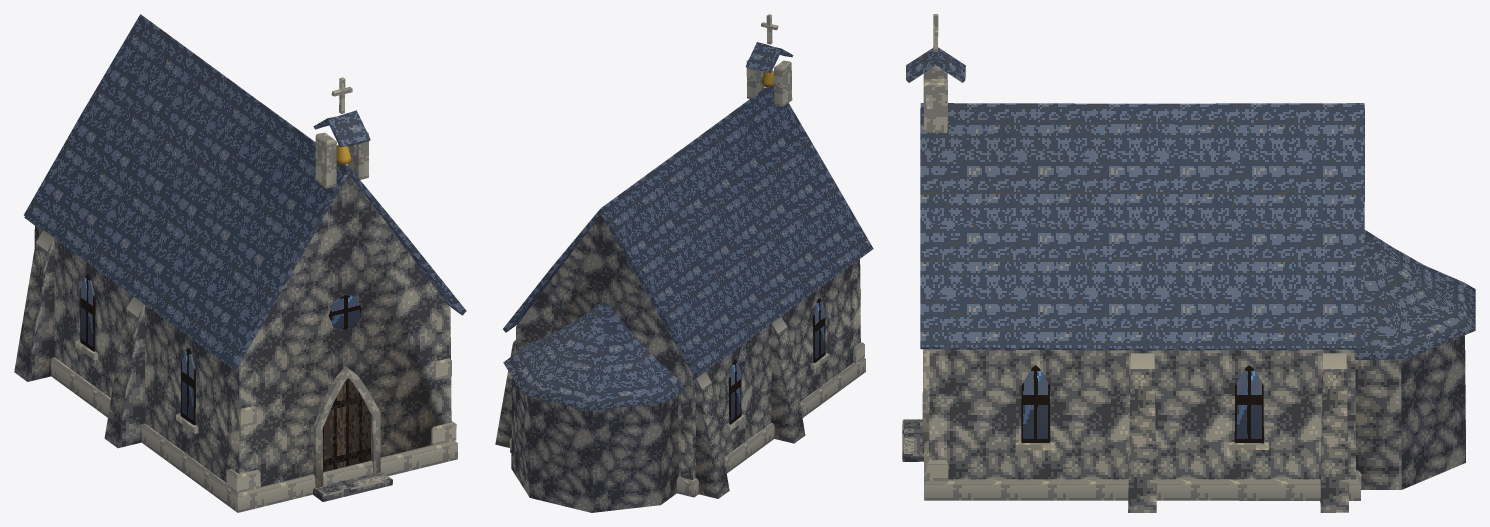
Rendered from vlg.chapel.glb.
3 views of the same model, side by side, from view 1: azimuth 30°, elevation 25°; view 2: azimuth 150°, elevation 25°; view 3: azimuth 270°, elevation 25° (orthographic). The views are drawn at different scales.
Parts seen in each view (by area): view 1: kit_roof, kit_walls, kit_stonework, kit_fittings; view 2: kit_roof, kit_walls, kit_stonework, kit_fittings; view 3: kit_roof, kit_walls, kit_stonework, kit_fittings.
Boxes of the visible parts, <box> form: kit_roof: <box>24,14,466,370</box>; kit_walls: <box>34,174,451,486</box>; kit_stonework: <box>14,132,457,512</box>; kit_fittings: <box>75,77,392,501</box>; kit_roof: <box>503,42,873,410</box>; kit_walls: <box>511,215,860,512</box>; kit_stonework: <box>495,59,865,498</box>; kit_fittings: <box>727,14,829,431</box>; kit_roof: <box>906,47,1475,359</box>; kit_walls: <box>929,335,1465,489</box>; kit_stonework: <box>923,65,1361,512</box>; kit_fittings: <box>902,14,1269,461</box>.
Size of the model in its own units: 6.91 by 9.99 by 12.08.
Materials: 7 (6 with a texture image).
